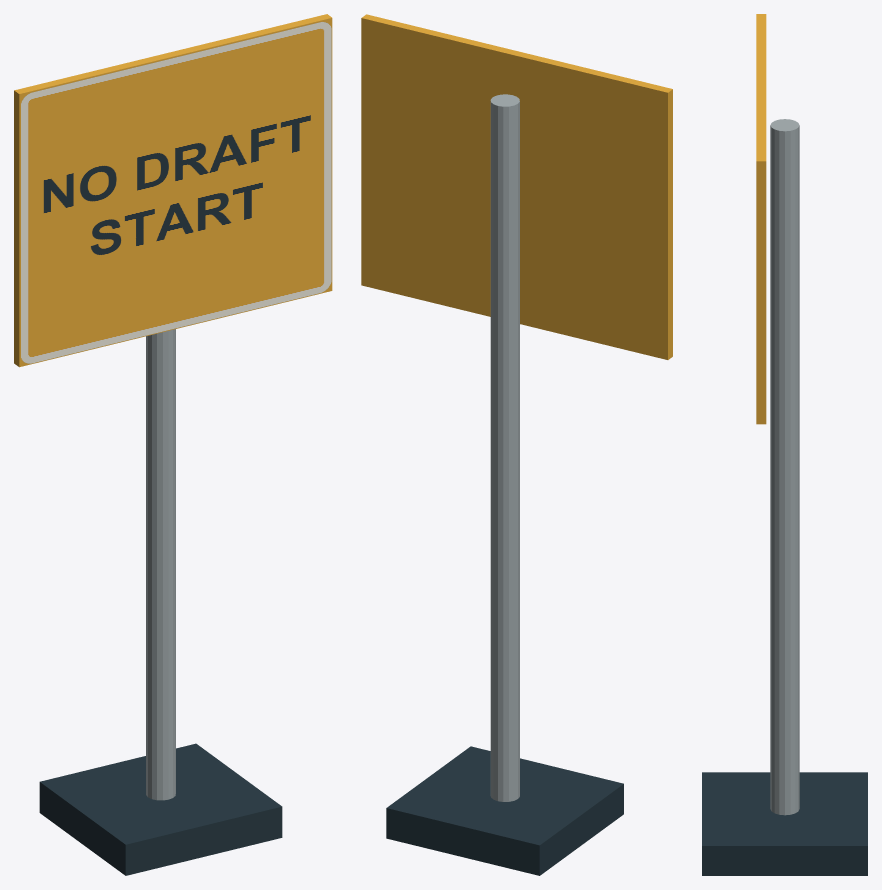
File: scendance-plan-no-draft-start.glb
3 views of the same model, side by side, from view 1: azimuth 30°, elevation 25°; view 2: azimuth 150°, elevation 25°; view 3: azimuth 270°, elevation 25° (orthographic). The views are drawn at different scales.
Bounding box in the file's own units: 0.84 × 2 × 0.4.
4 materials, 1 textured.
